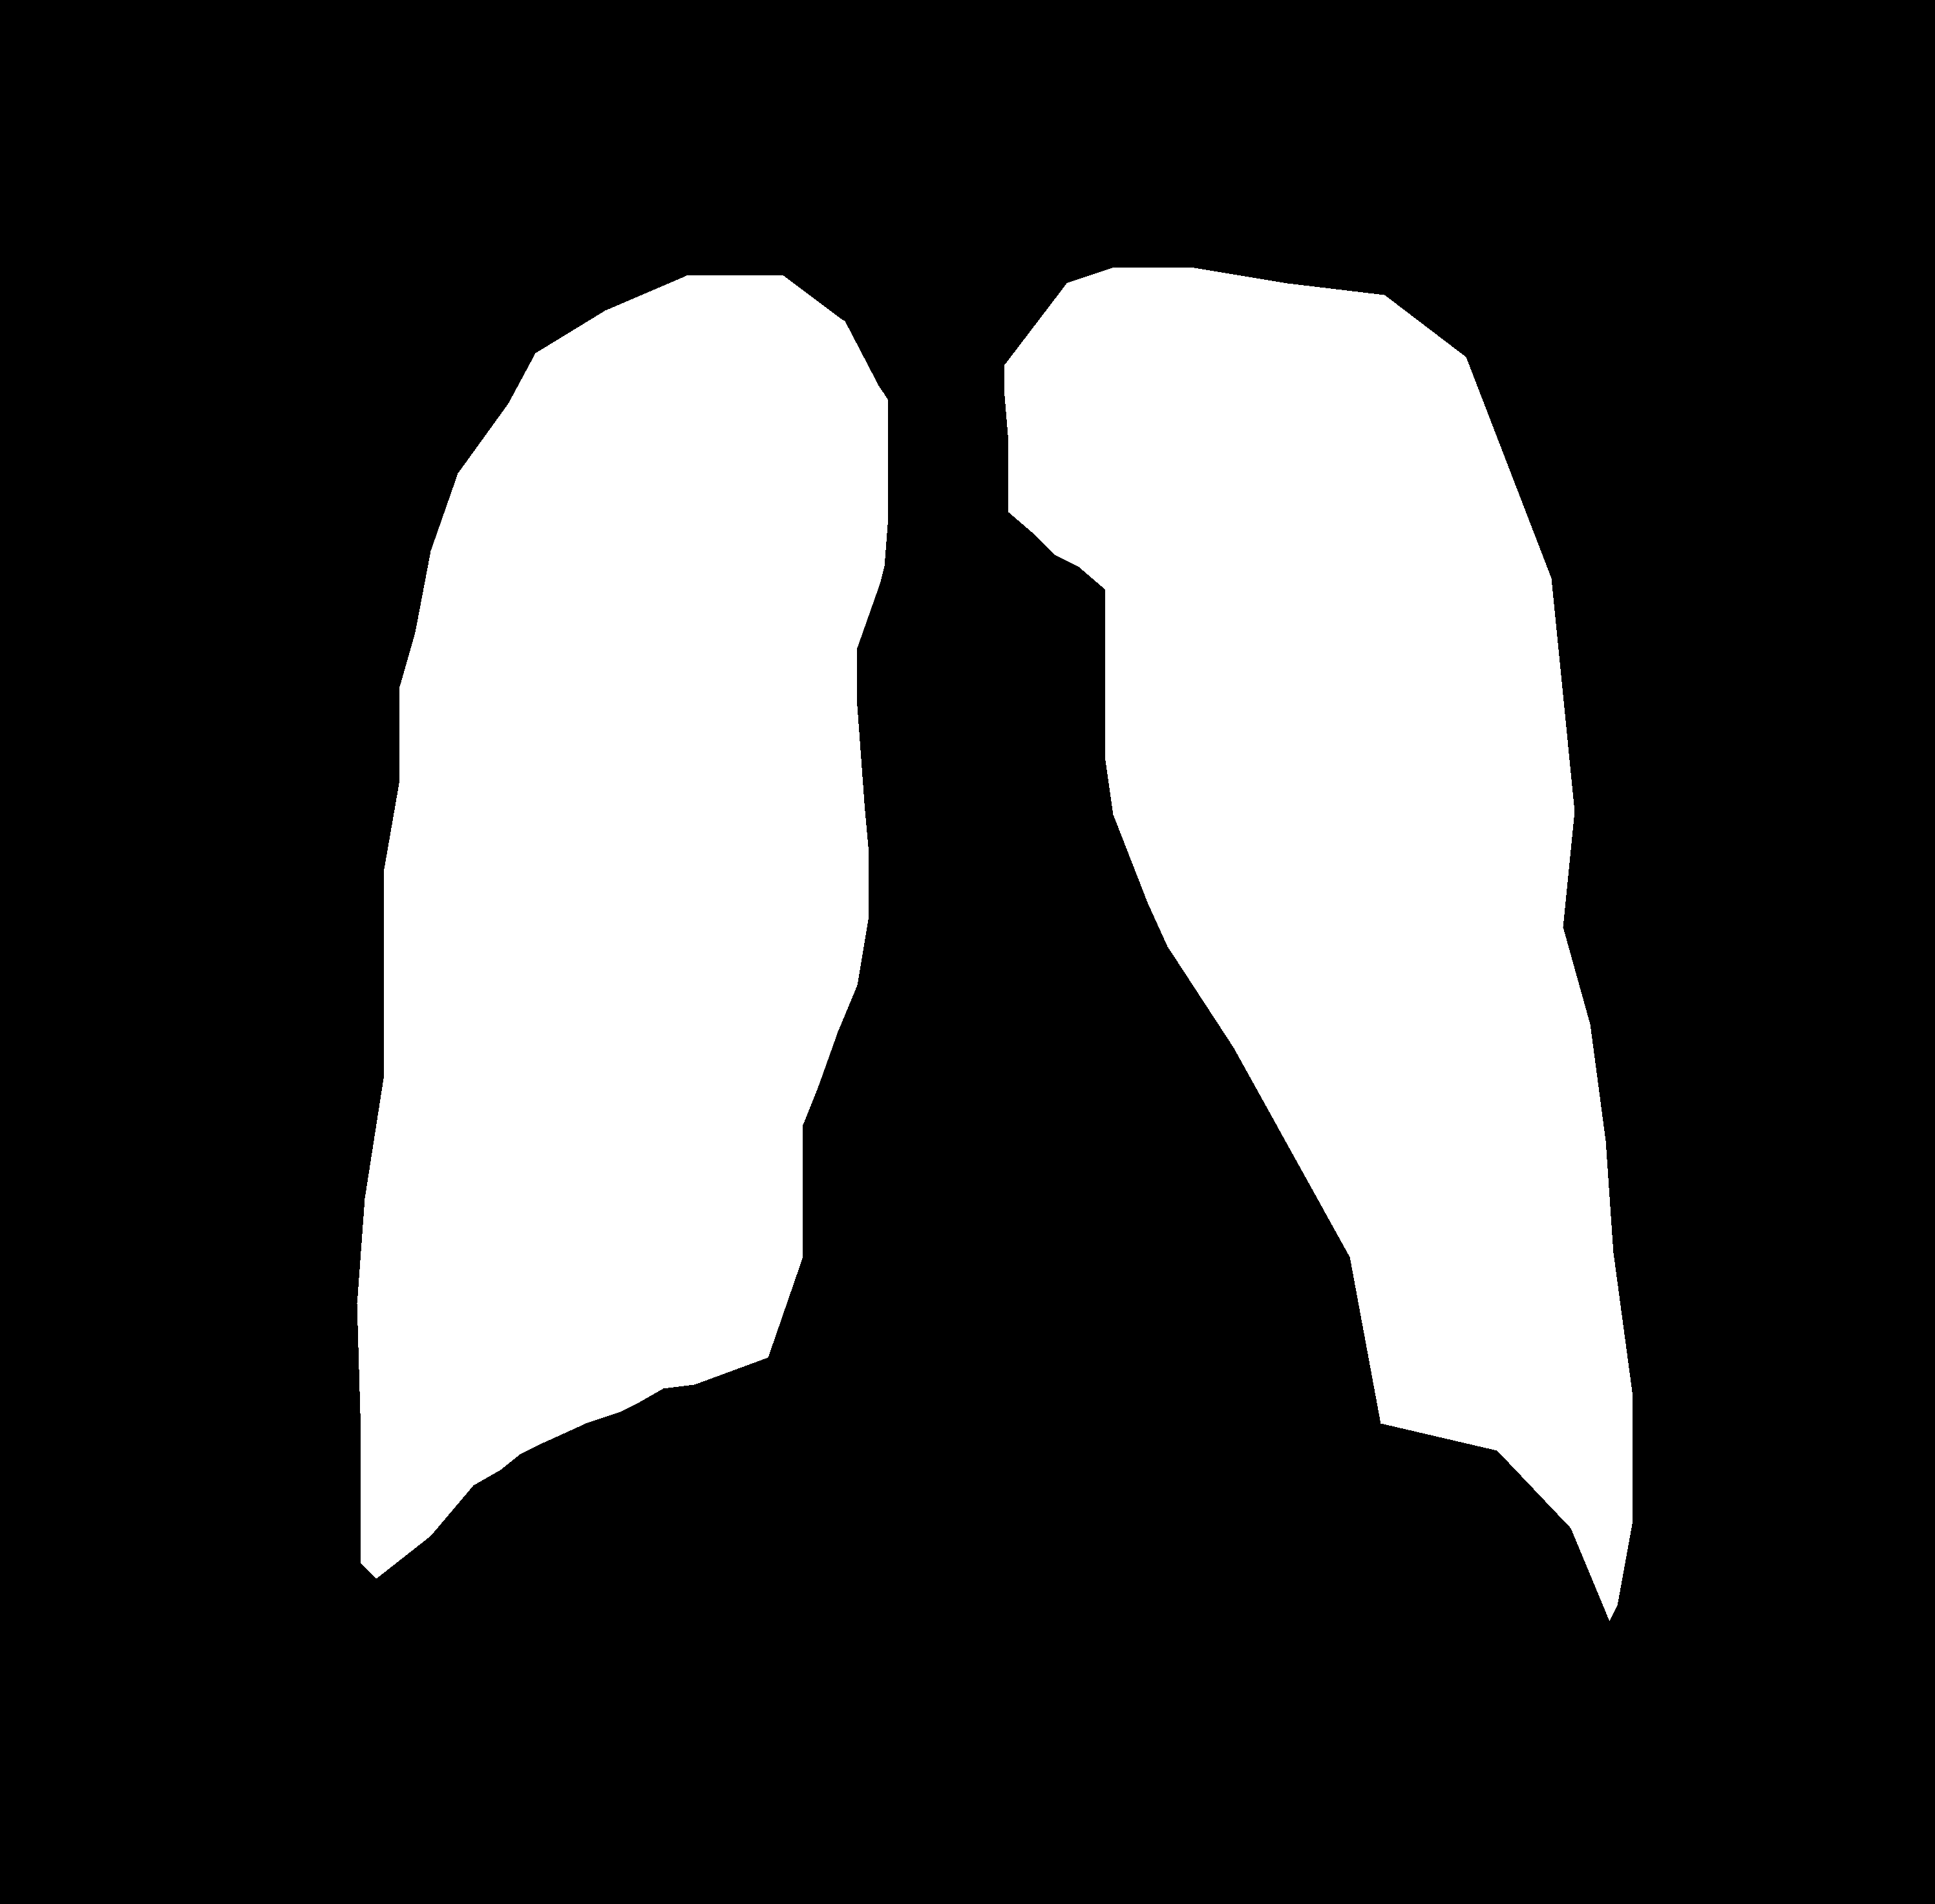heart: (777, 924, 1365, 1430)
left_lung: (359, 275, 887, 1583)
right_lung: (1004, 267, 1635, 1608)
